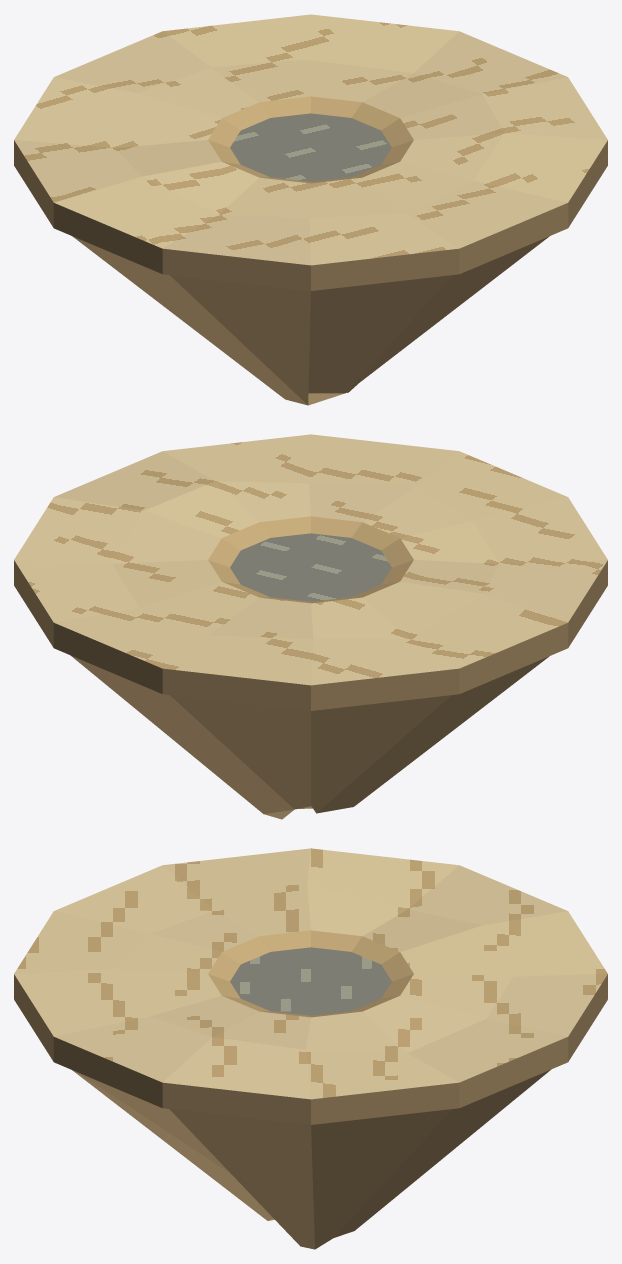
The model's file is ground.glb.
3 views of the same model, one above another, from view 1: azimuth 30°, elevation 25°; view 2: azimuth 150°, elevation 25°; view 3: azimuth 270°, elevation 25° (orthographic).
Visible parts, largest first — view 1: Ground, Under; view 2: Ground, Under; view 3: Ground, Under.
Part boxes in pixels (box(x1,y1,x2,y2)): Ground: box(14, 14, 607, 290); Under: box(72, 236, 549, 405); Ground: box(14, 434, 607, 710); Under: box(71, 655, 549, 819); Ground: box(14, 848, 607, 1124); Under: box(72, 1069, 550, 1249).
Bounding box in the file's own units: 8.4 × 4.14 × 8.4.
Materials: 5 (2 with a texture image).
